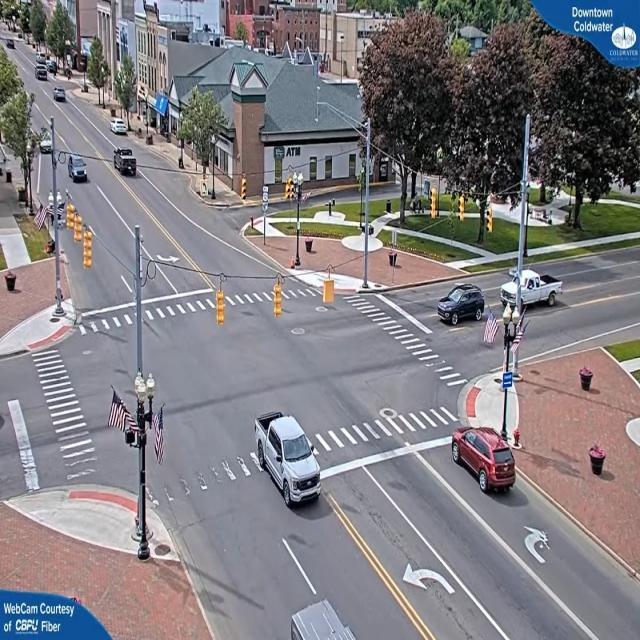car: (254, 414, 321, 511), (451, 429, 518, 496), (438, 283, 487, 326), (523, 270, 564, 312), (115, 150, 138, 177), (67, 155, 88, 182), (112, 119, 129, 136), (54, 88, 67, 102), (38, 66, 51, 80)
